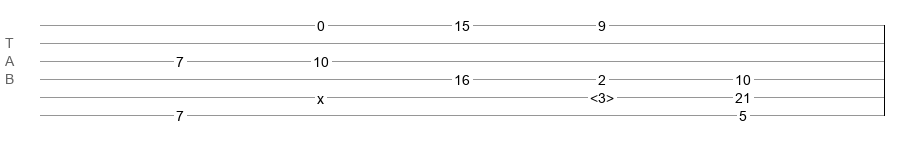0: (317, 18, 325, 28)
10: (313, 54, 329, 64), (735, 72, 751, 82)
15: (454, 18, 470, 28)
16: (454, 72, 470, 82)
2: (598, 72, 606, 82)
21: (735, 90, 751, 100)
5: (739, 108, 747, 118)
7: (176, 108, 184, 118), (176, 54, 184, 64)
9: (598, 18, 606, 28)
harmonic: (590, 90, 614, 100)
x: (317, 91, 324, 99)
